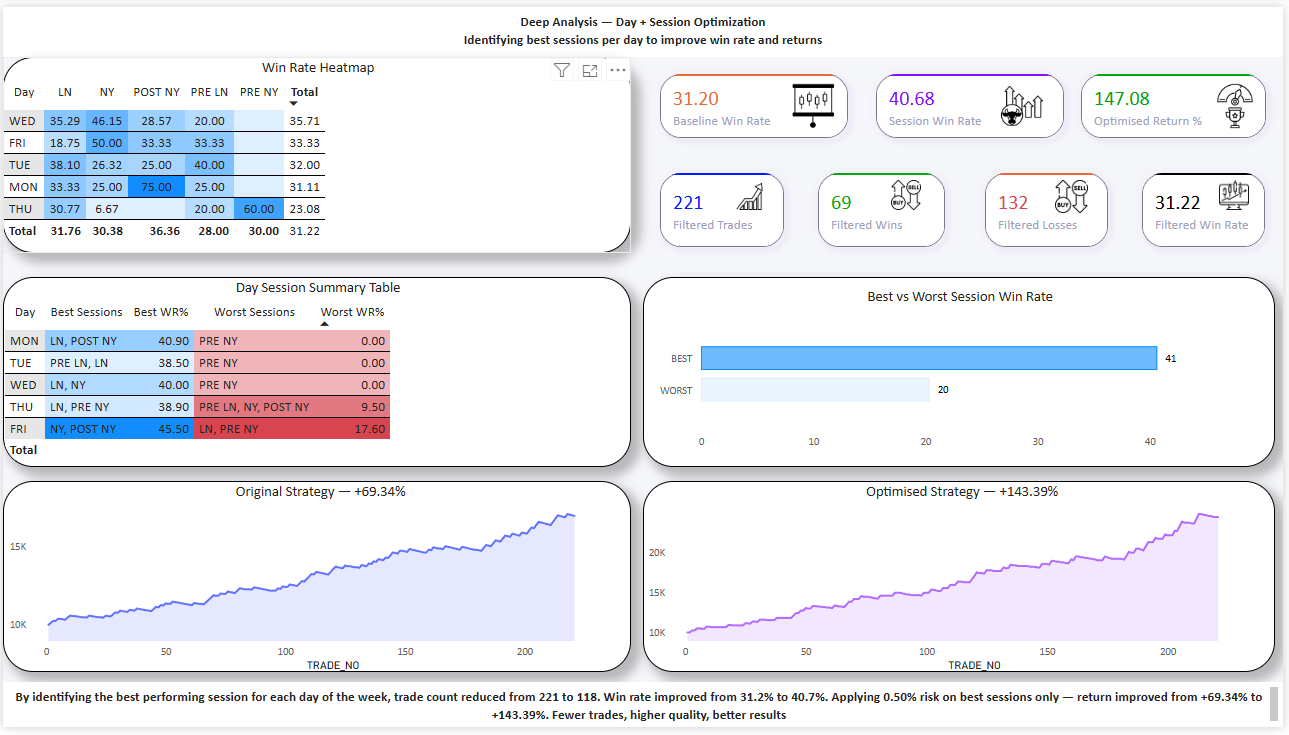

The dashboard page shown, as its layout file describes it:
{"tool":"powerbi","page":{"name":"Analysis and Optimisation","canvas":[1280,720],"ordinal":1},"visuals":[{"type":"tableEx","title":"Day Session Summary Table","fields":{"Values":["Day Session Summary.Day","Day Session Summary.Best Sessions","Day Session Summary.Best WR%","Day Session Summary.Worst Sessions","Day Session Summary.Worst WR%"]},"box":[0,269.7,628.5,190.4],"z":0},{"type":"pivotTable","title":"Win Rate Heatmap","fields":{"Rows":["Day Session Summary.Day"],"Columns":["eu_enriched.IFVG_ENTRY"],"Values":["eu_enriched.Win Rate %"]},"box":[0,50.4,628.5,196],"z":1000,"group":"g8"},{"type":"clusteredBarChart","title":"Best vs Worst Session Win Rate","fields":{"Category":["eu_enriched.TRADE_QUALITY"],"Y":["eu_enriched.Win Rate %"]},"box":[640.1,269.7,632.2,190.4],"z":1000},{"type":"lineChart","title":"Original Strategy — +69.34%","fields":{"Y":["Sum(eu_enriched.RUNNING_BALANCE)"],"Category":["eu_enriched.TRADE_NO"]},"box":[0,474.3,628.5,190.4],"z":2000},{"type":"cardVisual","fields":{"Data":["eu_enriched.Baseline Win Rate"]},"box":[640.1,50.4,222.4,98.3],"z":3000,"group":"g6"},{"type":"lineChart","title":"Optimised Strategy — +143.39%","fields":{"Y":["Sum(eu_enriched.OPTIMISED_BALANCE)"],"Category":["eu_enriched.TRADE_NO"]},"box":[640.1,474.3,632.2,190.4],"z":3000},{"type":"cardVisual","title":"Best Sessions Win Rate %","fields":{"Data":["eu_enriched.Best Session Win Rate"]},"box":[856.4,50.4,221.8,98.3],"z":4000,"group":"g5"},{"type":"textbox","box":[0,674.8,1279.8,45.2],"z":4000},{"type":"slicer","fields":{"Values":["eu_enriched.TRADE_QUALITY"]},"box":[1060.8,0,198.6,38.4],"z":5000},{"type":"cardVisual","title":"Optimised Return %","fields":{"Data":["eu_enriched.Optimised Return %"]},"box":[1061,50.4,219.3,98.3],"z":5000,"group":"g4"},{"type":"textbox","box":[0,0,1279.7,50.4],"z":6000},{"type":"group","id":"g1","title":"Group 1","box":[798,148.7,161,107.5],"z":7000},{"type":"group","id":"g2","title":"Group 2","box":[965.1,148.7,157.3,107.5],"z":8000},{"type":"group","id":"g3","title":"Group 3","box":[1122.4,148.7,157.3,107.5],"z":9000},{"type":"group","id":"g4","title":"Group 4","box":[1061,50.4,219.3,98.3],"z":10000},{"type":"group","id":"g5","title":"Group 5","box":[856.4,50.4,221.8,98.3],"z":11000},{"type":"cardVisual","title":"Total Trades","fields":{"Data":["eu_enriched.Filtered Trades"]},"box":[640.1,148.7,157.9,107.5],"z":11000,"group":"g7"},{"type":"group","id":"g6","title":"Group 6","box":[640.1,50.4,222.4,98.3],"z":12000},{"type":"cardVisual","fields":{"Data":["eu_enriched.Filtered Wins"]},"box":[798,148.7,161,107.5],"z":12000,"group":"g1"},{"type":"group","id":"g7","title":"Group 7","box":[640.1,148.7,157.9,107.5],"z":13000},{"type":"cardVisual","fields":{"Data":["eu_enriched.Filtered Losses"]},"box":[965.1,148.7,157.3,107.5],"z":13000,"group":"g2"},{"type":"group","id":"g8","title":"Group 8","box":[0,50.4,628.5,196],"z":14000},{"type":"cardVisual","fields":{"Data":["eu_enriched.Filtered Win Rate"]},"box":[1122.4,148.7,157.3,107.5],"z":14000,"group":"g3"},{"type":"image","box":[1204.1,76.2,55.3,46.1],"z":15000,"group":"g4"},{"type":"image","box":[719.3,175.7,53.4,27],"z":16000,"group":"g7"},{"type":"image","box":[878.5,172.7,49.8,30.1],"z":17000,"group":"g1"},{"type":"image","box":[1043.7,172.7,49.8,33.2],"z":18000,"group":"g2"},{"type":"image","box":[1201.6,172.7,60.2,30.1],"z":19000,"group":"g3"},{"type":"image","box":[989.7,76.2,59.6,46.1],"z":20000,"group":"g5"},{"type":"image","box":[786.3,76.2,47.3,46.1],"z":21000,"group":"g6"}]}

Visuals, with their boxes in screenshot pixels (x1, y1, x2, y2), scaled from the page's 1280x720 canvas onto the 1289x735 screenshot:
"Day Session Summary Table" tableEx: <box>0,275,633,470</box>
"Win Rate Heatmap" pivotTable: <box>0,51,633,252</box>
"Best vs Worst Session Win Rate" clusteredBarChart: <box>645,275,1281,470</box>
"Original Strategy — +69.34%" lineChart: <box>0,484,633,679</box>
cardVisual - eu_enriched.Baseline Win Rate: <box>645,51,869,152</box>
"Optimised Strategy — +143.39%" lineChart: <box>645,484,1281,679</box>
"Best Sessions Win Rate %" cardVisual: <box>862,51,1086,152</box>
textbox: <box>0,689,1288,734</box>
slicer - eu_enriched.TRADE_QUALITY: <box>1068,0,1268,39</box>
"Optimised Return %" cardVisual: <box>1068,51,1288,152</box>
textbox: <box>0,0,1288,51</box>
"Group 1" group: <box>804,152,966,262</box>
"Group 2" group: <box>972,152,1130,262</box>
"Group 3" group: <box>1130,152,1288,262</box>
"Group 4" group: <box>1068,51,1288,152</box>
"Group 5" group: <box>862,51,1086,152</box>
"Total Trades" cardVisual: <box>645,152,804,262</box>
"Group 6" group: <box>645,51,869,152</box>
cardVisual - eu_enriched.Filtered Wins: <box>804,152,966,262</box>
"Group 7" group: <box>645,152,804,262</box>
cardVisual - eu_enriched.Filtered Losses: <box>972,152,1130,262</box>
"Group 8" group: <box>0,51,633,252</box>
cardVisual - eu_enriched.Filtered Win Rate: <box>1130,152,1288,262</box>
image: <box>1213,78,1268,125</box>
image: <box>724,179,778,207</box>
image: <box>885,176,935,207</box>
image: <box>1051,176,1101,210</box>
image: <box>1210,176,1271,207</box>
image: <box>997,78,1057,125</box>
image: <box>792,78,839,125</box>
